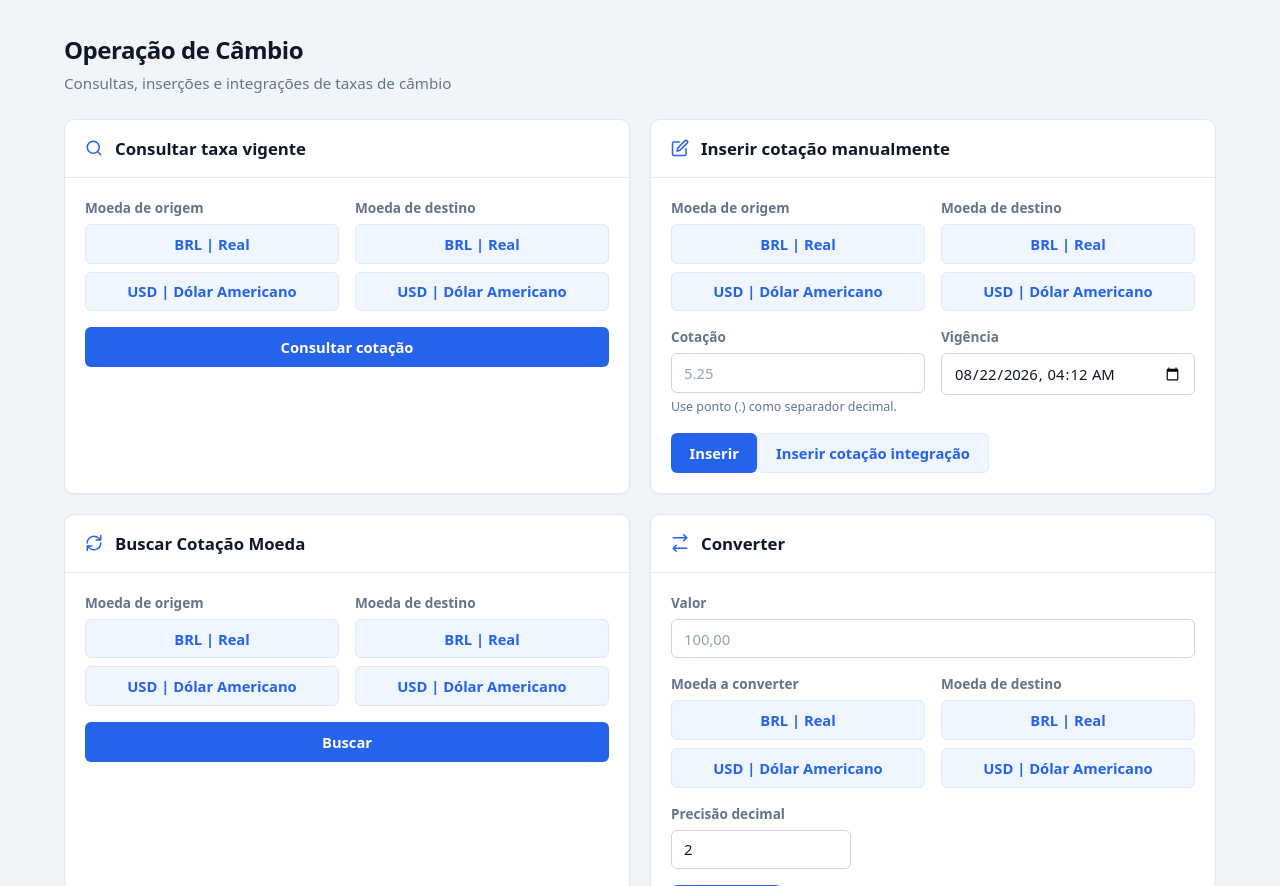
it: CambioPage › consults the current exchange rate and shows the result
Click the button with aria-label "BRL como moeda de origem para consulta".
click(212, 244)  # box [85,224,339,264]
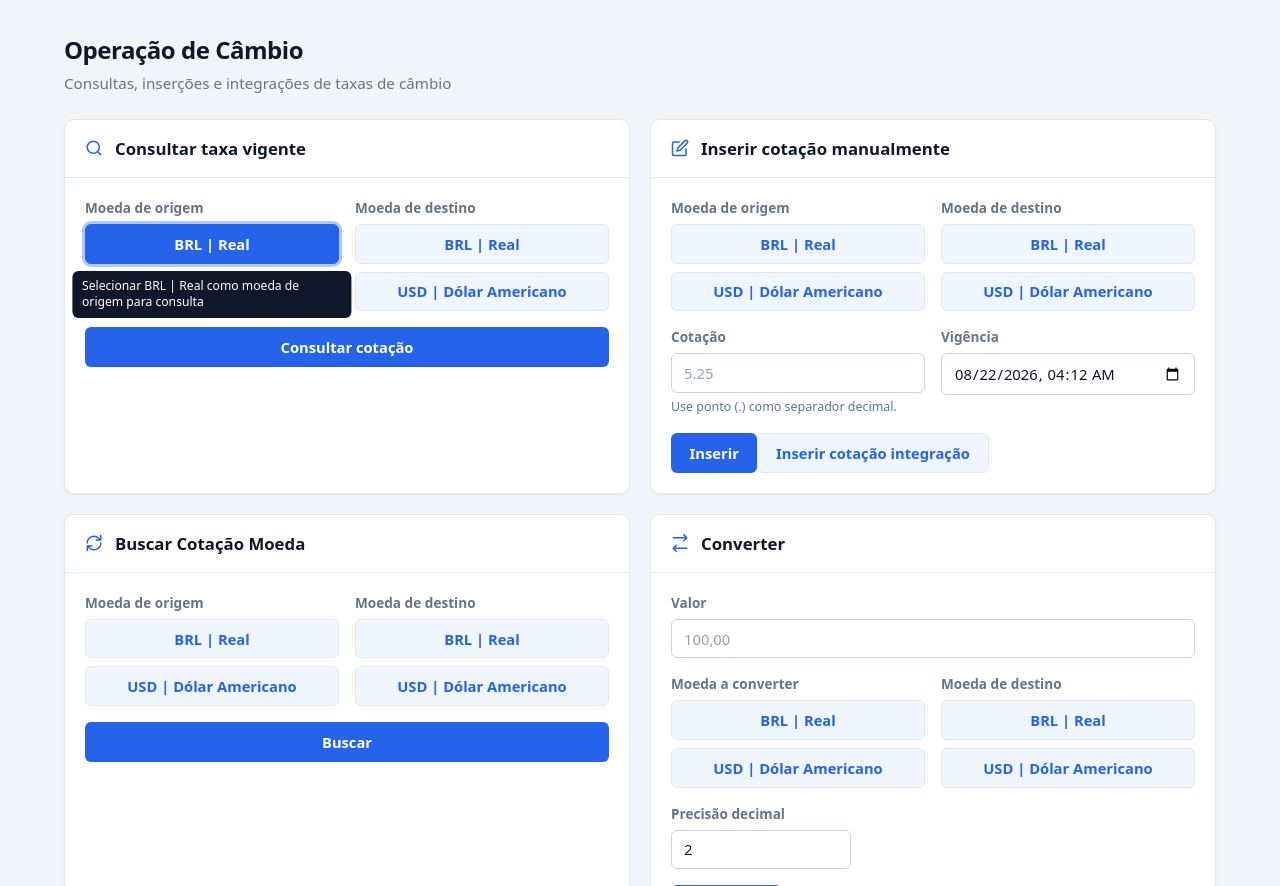
Click the button with aria-label "USD como moeda de destino para consulta".
click(482, 291)  # box [355,272,609,311]
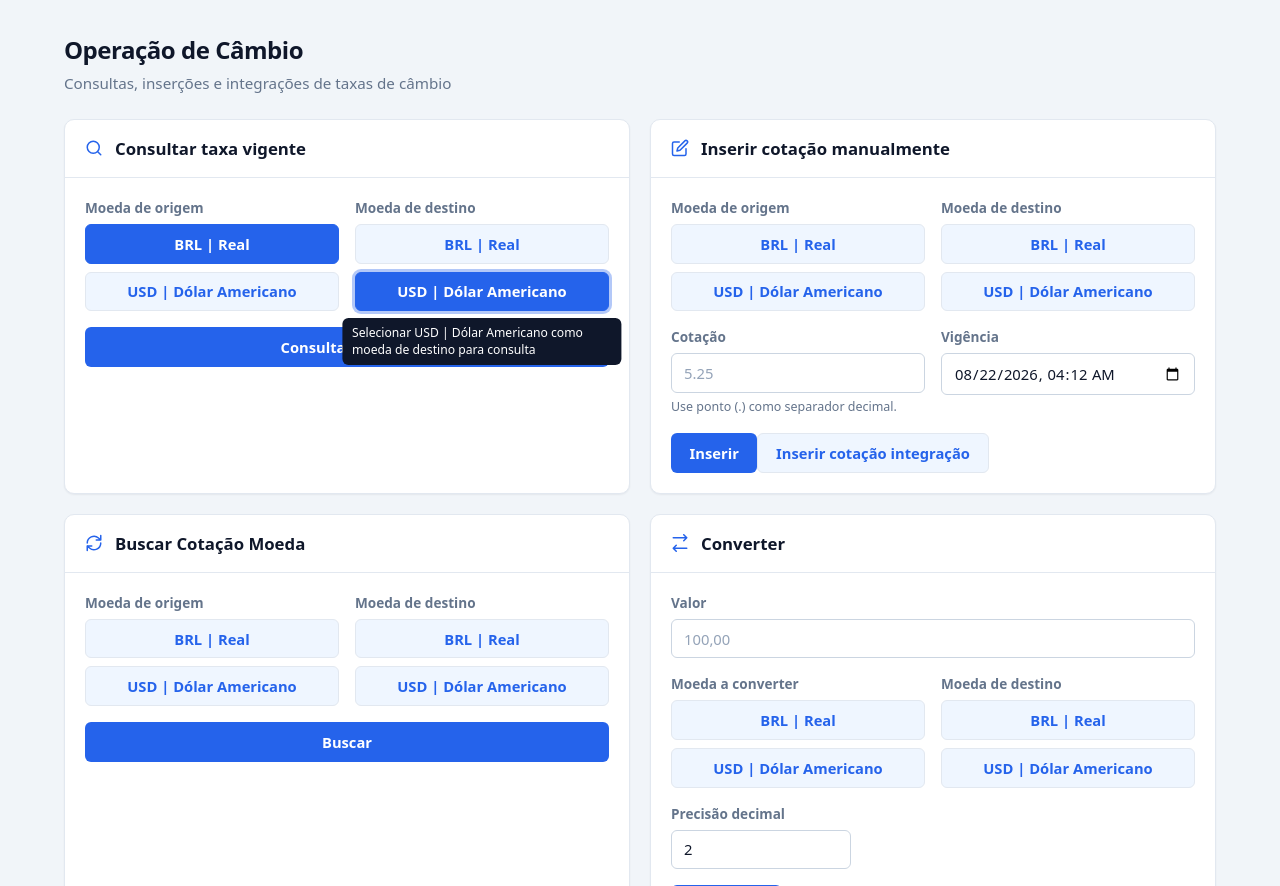
Click the button "Consultar cotação".
click(347, 347)  # box [85,327,609,367]
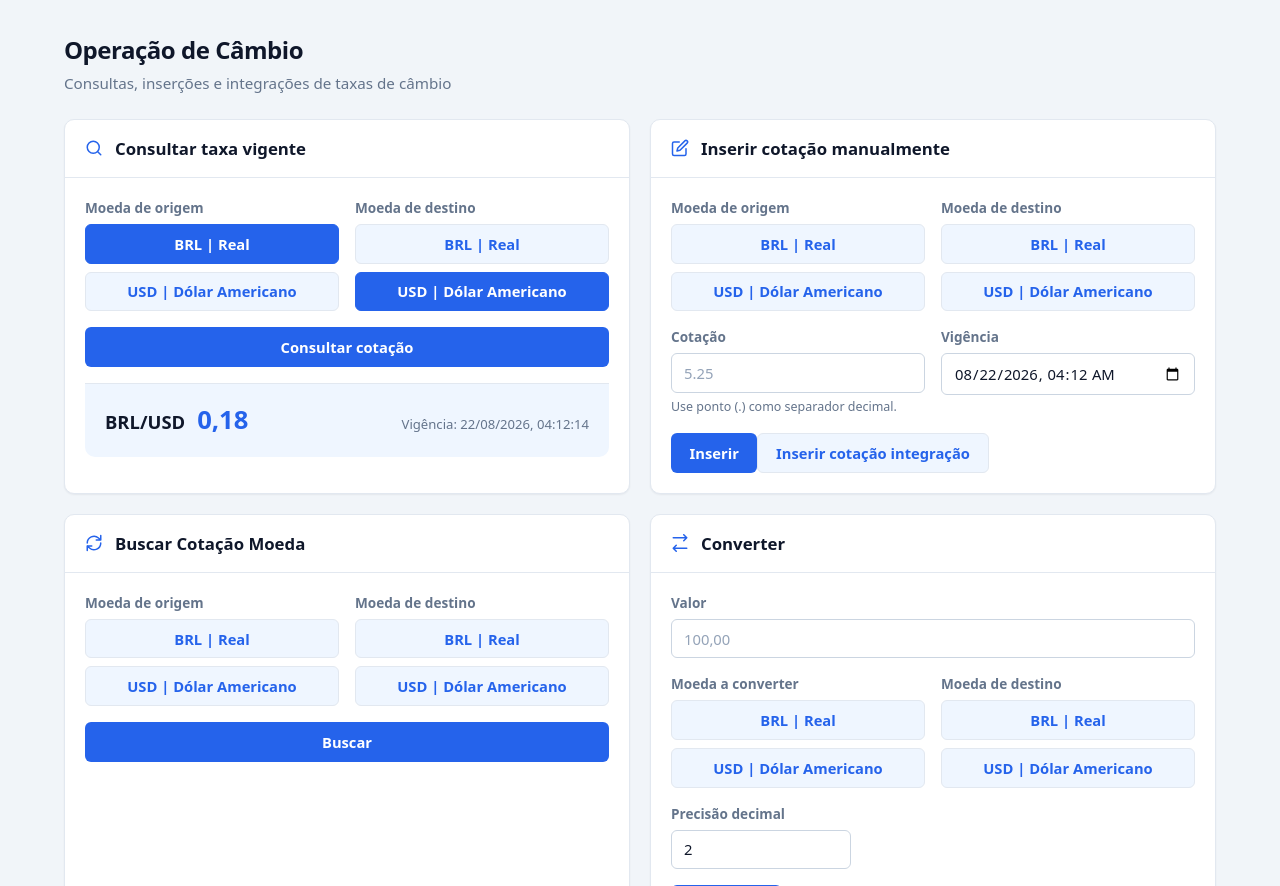
Expected: the element with test id "taxa-resultado" shows "0,18", [197,402,248,437]
